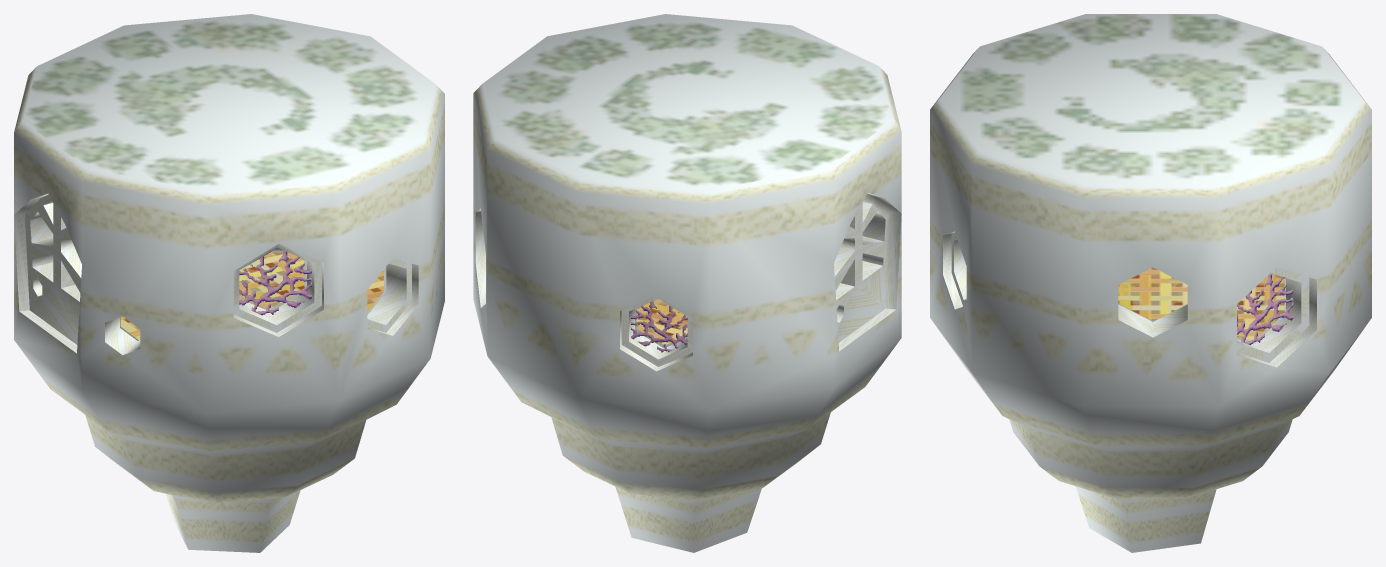
File: WaterPlatform.obj
3 renders of one model, left to right at view 1: azimuth 30°, elevation 25°; view 2: azimuth 150°, elevation 25°; view 3: azimuth 270°, elevation 25°, orthographic.
Bounding box in the file's own units: 80.24 × 90.42 × 84.37.
Materials: 3 (3 with a texture image).
